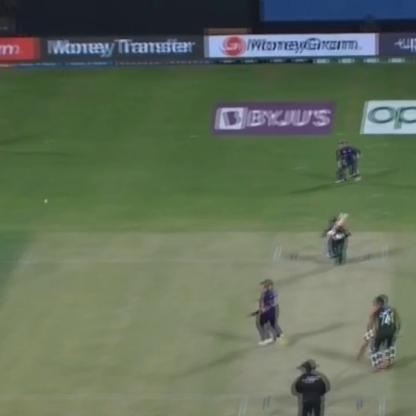ball: (38, 194, 52, 206)
pitch: (256, 233, 392, 415)
